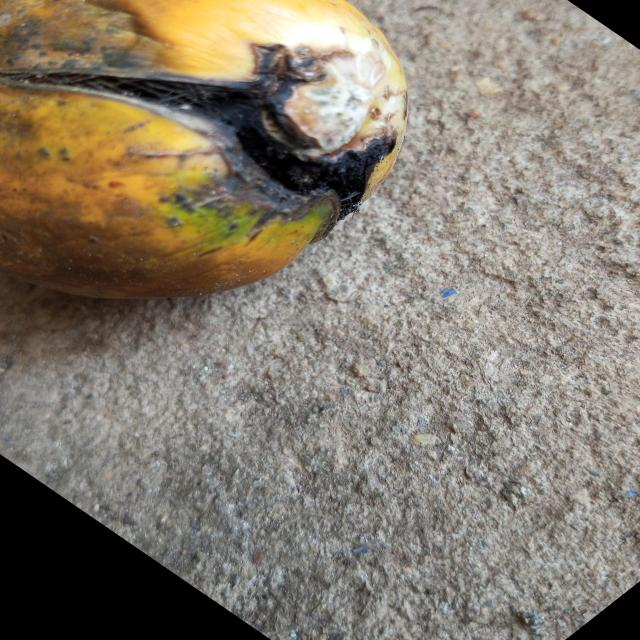damaged: (0, 0, 406, 303)
